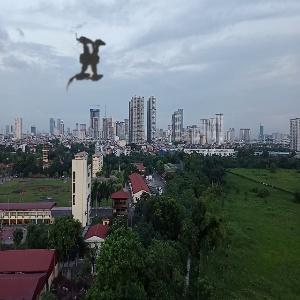drone: (36, 2, 148, 114)
